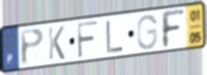F: (159, 8, 187, 51), (76, 20, 100, 61)
G: (136, 13, 158, 51)
K: (46, 25, 66, 62)
L: (105, 19, 125, 55)
P: (18, 26, 46, 67)
